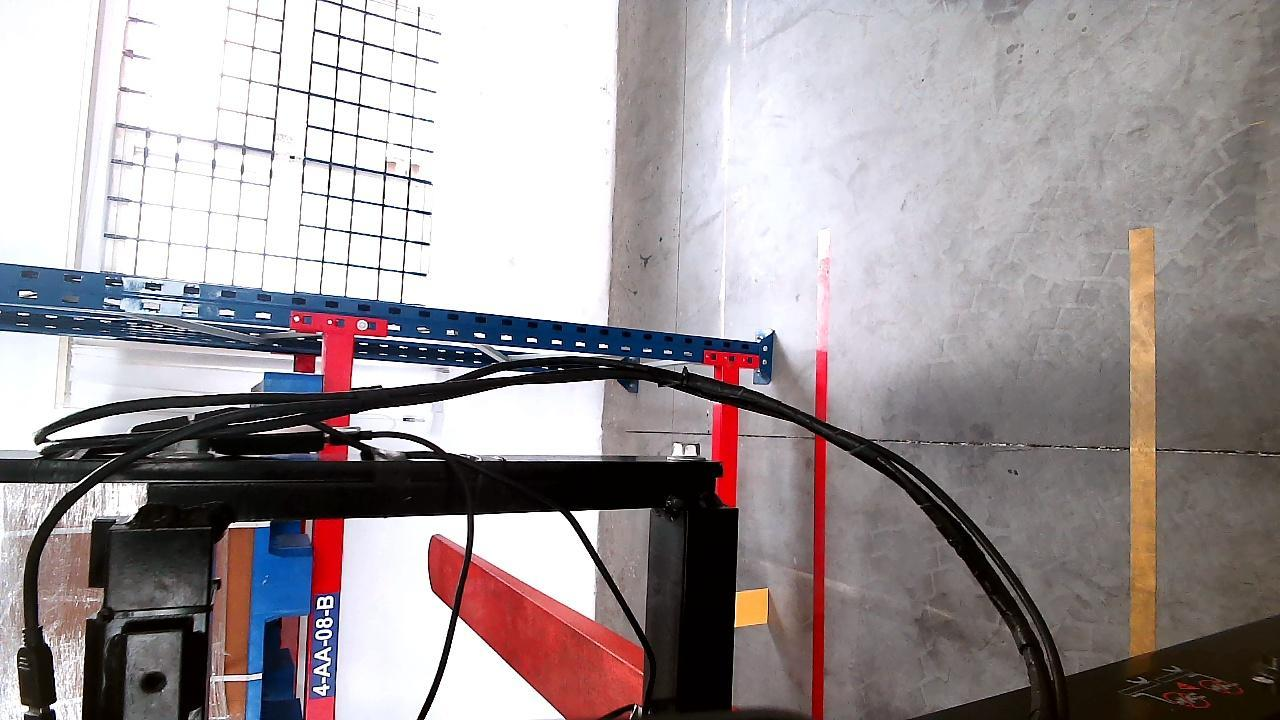red_line: (811, 227, 831, 718)
yellow_line: (1130, 222, 1159, 663)
